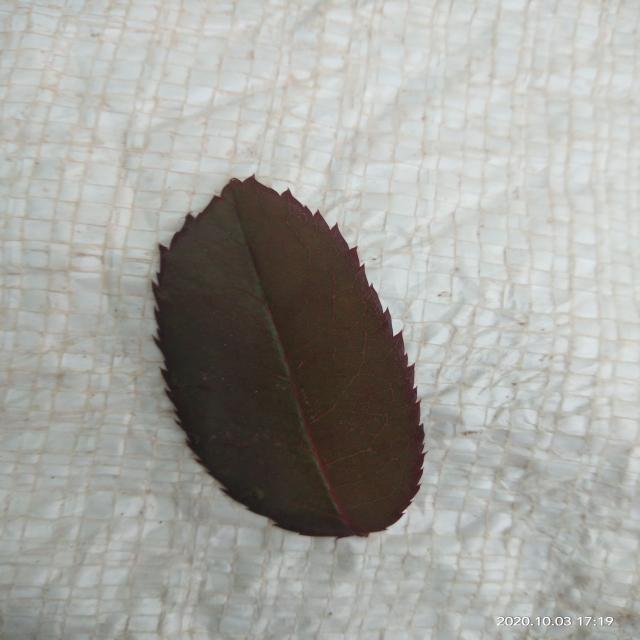rose: (153, 178, 425, 538)
